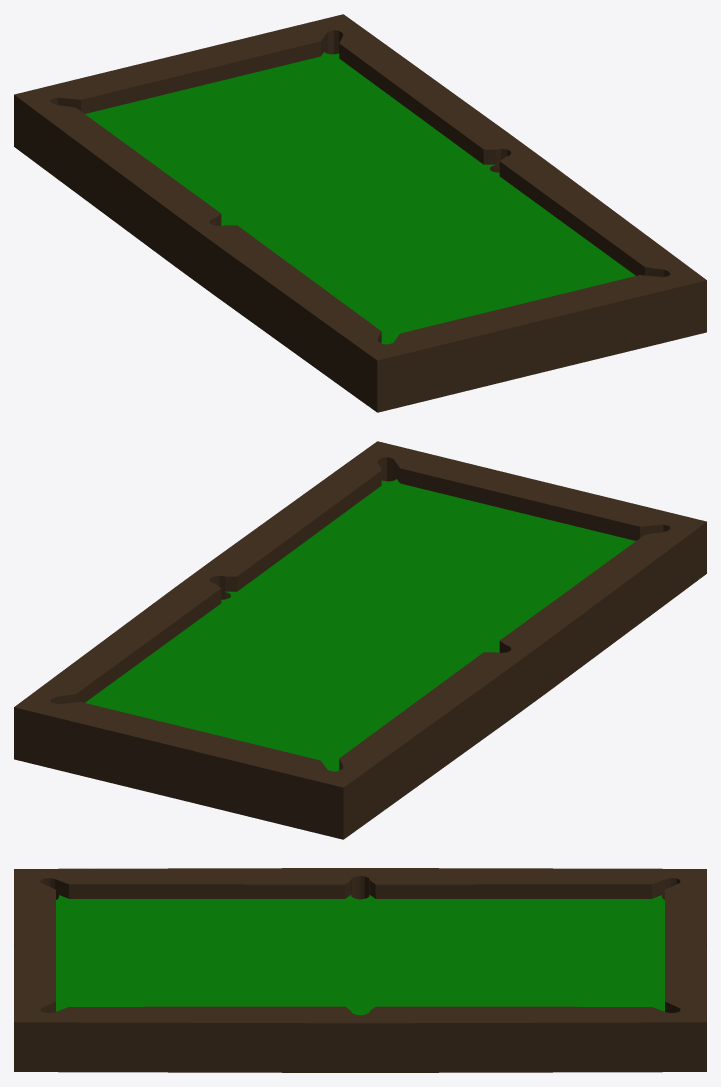
The model's file is table.obj.
3 renders of one model, top to bottom at view 1: azimuth 30°, elevation 25°; view 2: azimuth 150°, elevation 25°; view 3: azimuth 270°, elevation 25°, orthographic. The views are drawn at different scales.
Visible parts, largest first — view 1: Cube_Cube.001; view 2: Cube_Cube.001; view 3: Cube_Cube.001.
Part boxes in pixels (<box>): Cube_Cube.001: <box>14,14,706,412</box>; Cube_Cube.001: <box>14,441,706,839</box>; Cube_Cube.001: <box>14,868,706,1072</box>.
Size of the model in its own units: 3.92 by 0.5855 by 7.39.
1 material, 1 textured.
